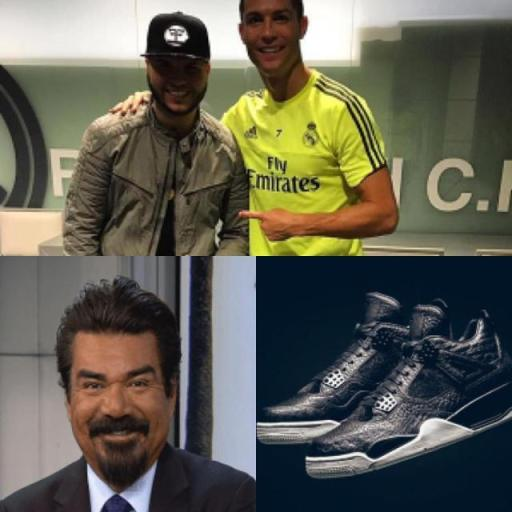Adidas: (244, 122, 261, 140)
Emirates: (248, 154, 320, 196)
